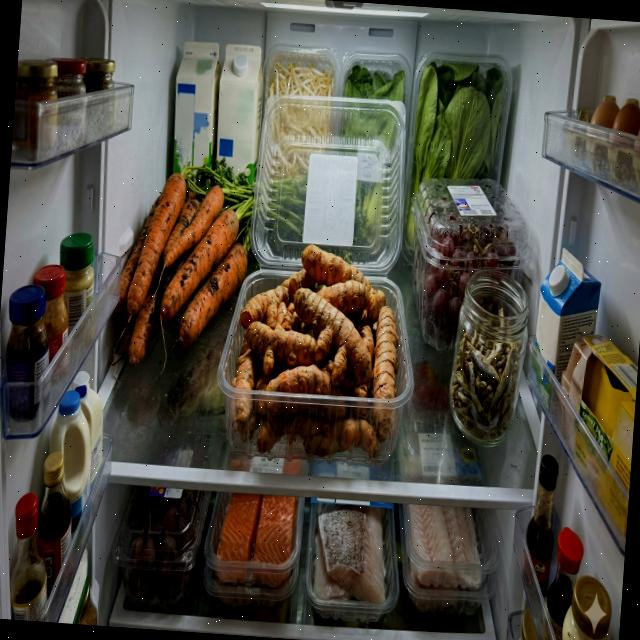anchovies: (448, 304, 524, 443)
bean_sprouts: (262, 59, 336, 182)
carrot: (114, 169, 254, 373)
egg: (571, 92, 640, 201)
fish: (311, 502, 392, 604), (214, 492, 296, 588), (402, 502, 486, 590)
grape: (400, 172, 537, 356), (108, 485, 212, 614)
pakchoy: (404, 60, 504, 254), (332, 66, 406, 248)
turmeric: (227, 239, 406, 463)
